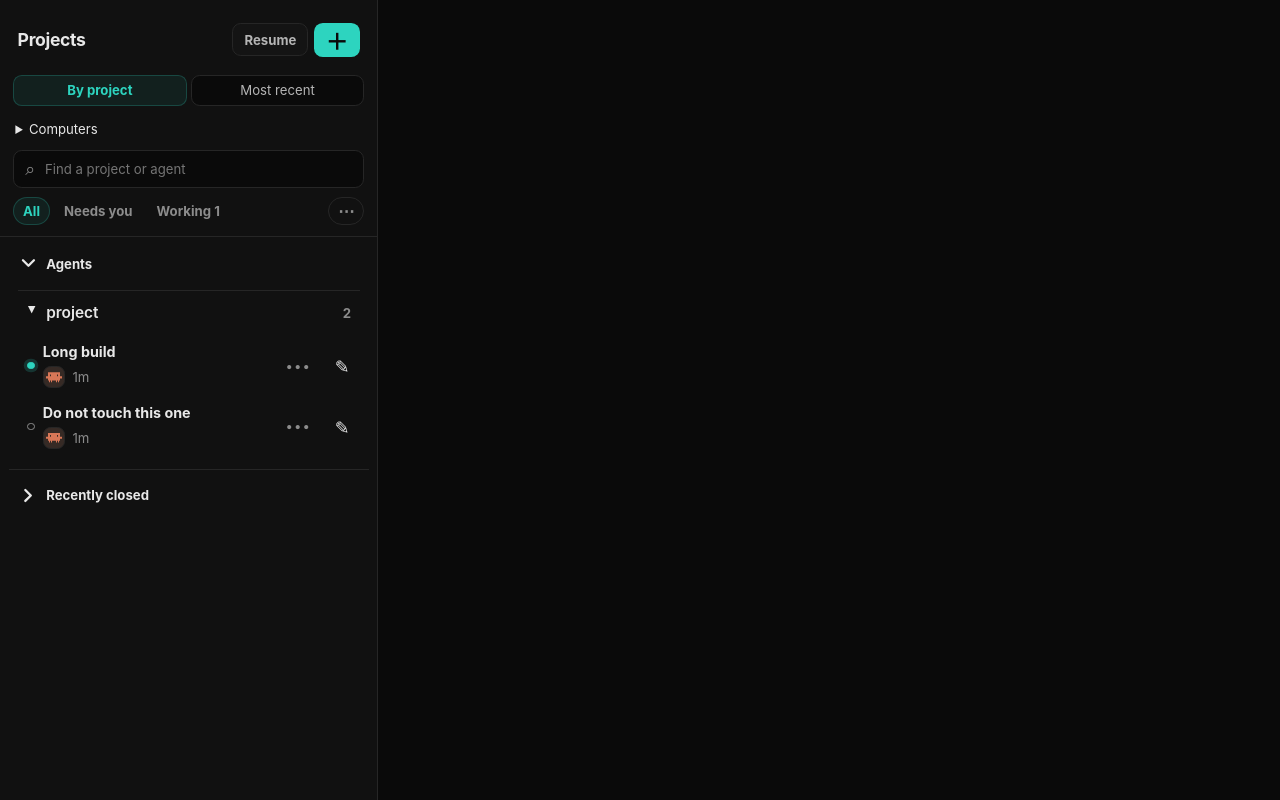
Test case: capability: end a session › ends the session the person chose, and only that one
Step 1. Click the button named "Actions for Long build" → (298, 366), box x1=282 y1=349 x2=315 y2=382
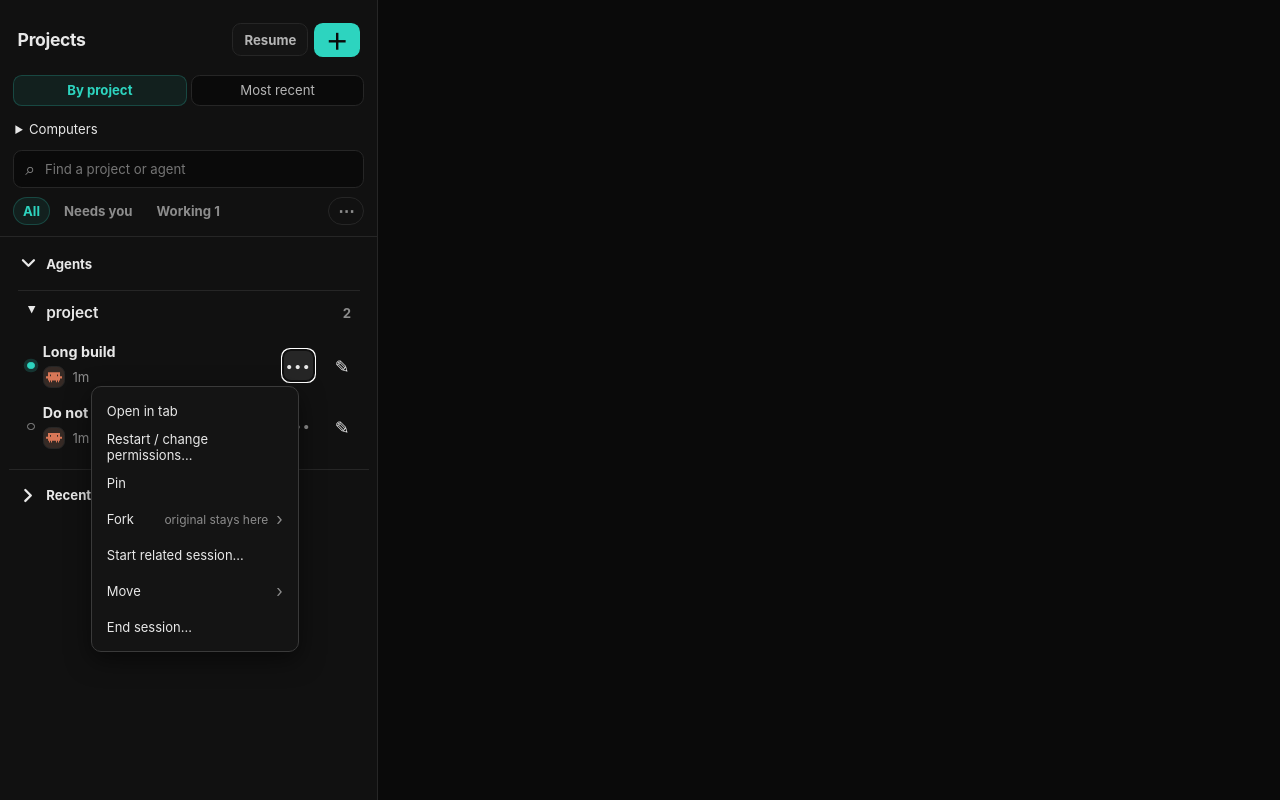
Step 2. Click the menu item "End session…" → (195, 627), box x1=98 y1=609 x2=292 y2=645
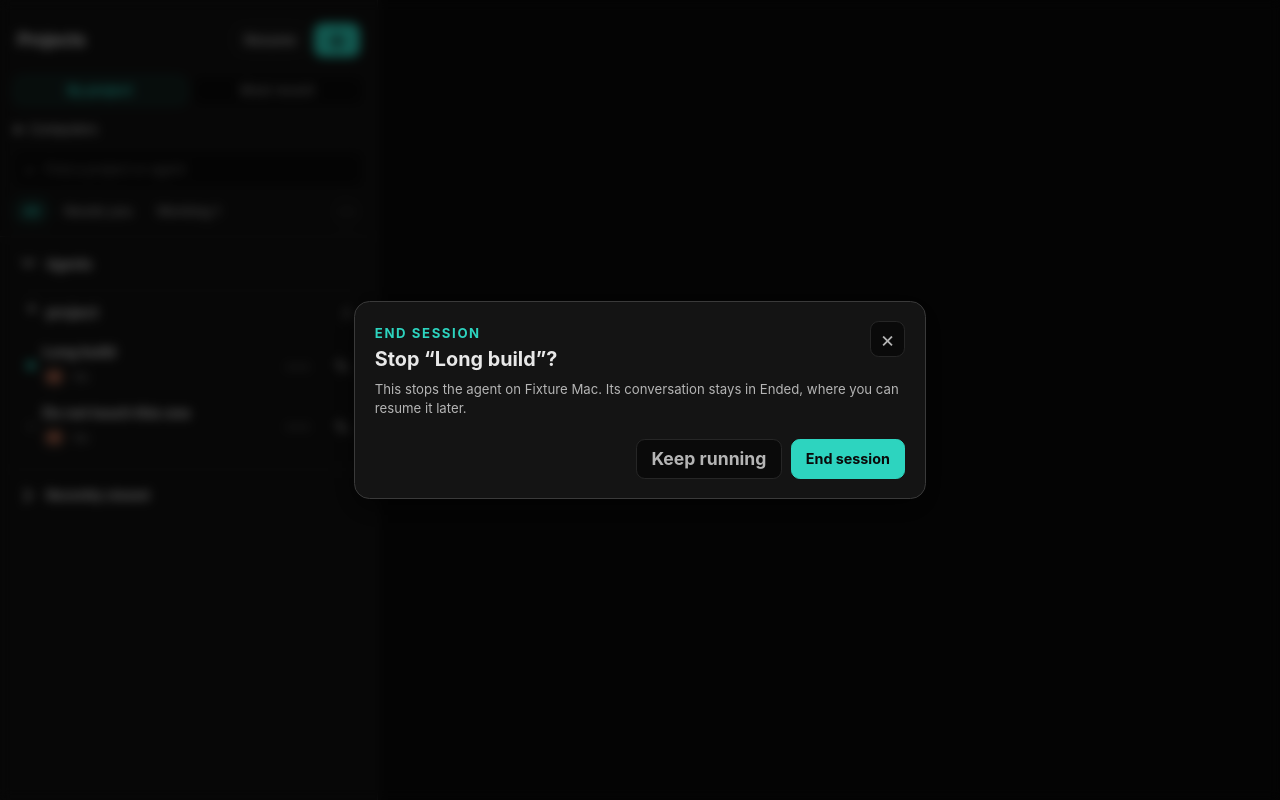
A confirmation, because ending is not undoable.
Step 3. Click the button "End session" → (848, 459), box x1=790 y1=439 x2=905 y2=479
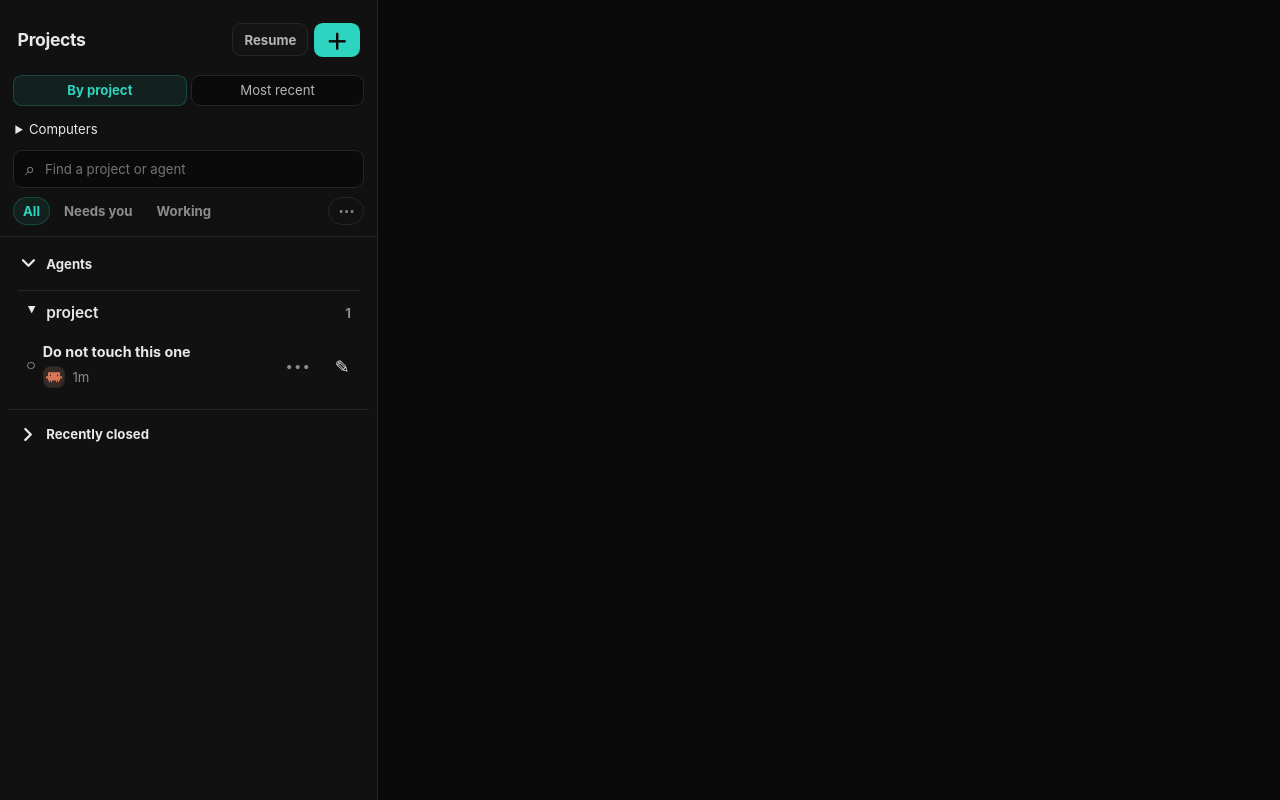
Now the heading "Stop “Long build”" is gone
Step 4. Click the button "Recently closed" → (98, 434), box x1=9 y1=417 x2=369 y2=452
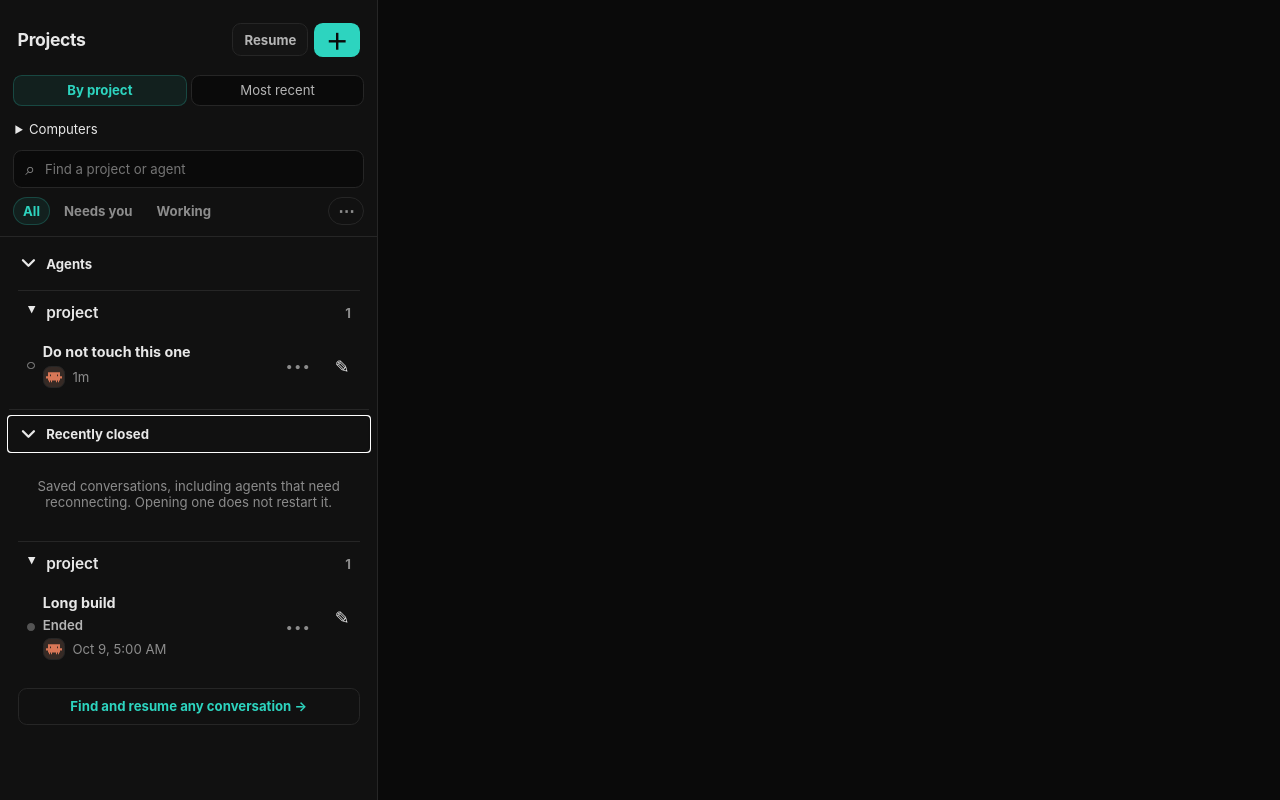
Expected: the button named "Actions for Do not touch this one" is shown, x1=282 y1=349 x2=315 y2=382
Now the text "Long build" is shown, box x1=43 y1=594 x2=116 y2=611
